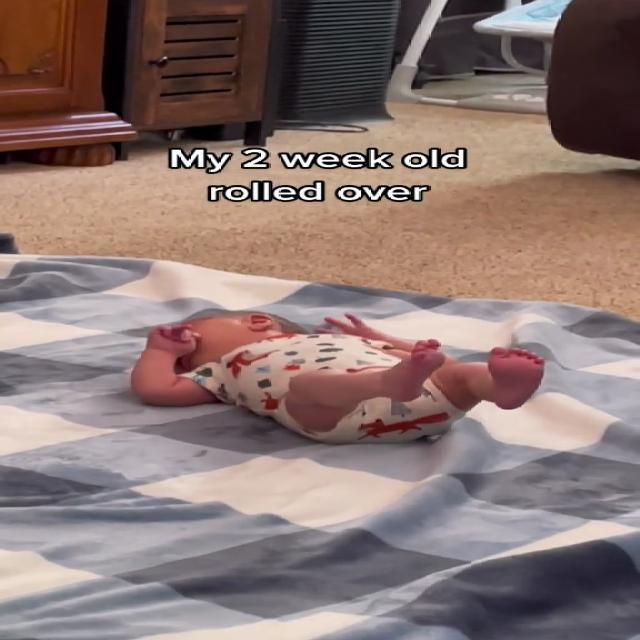baby: (130, 312, 554, 454)
